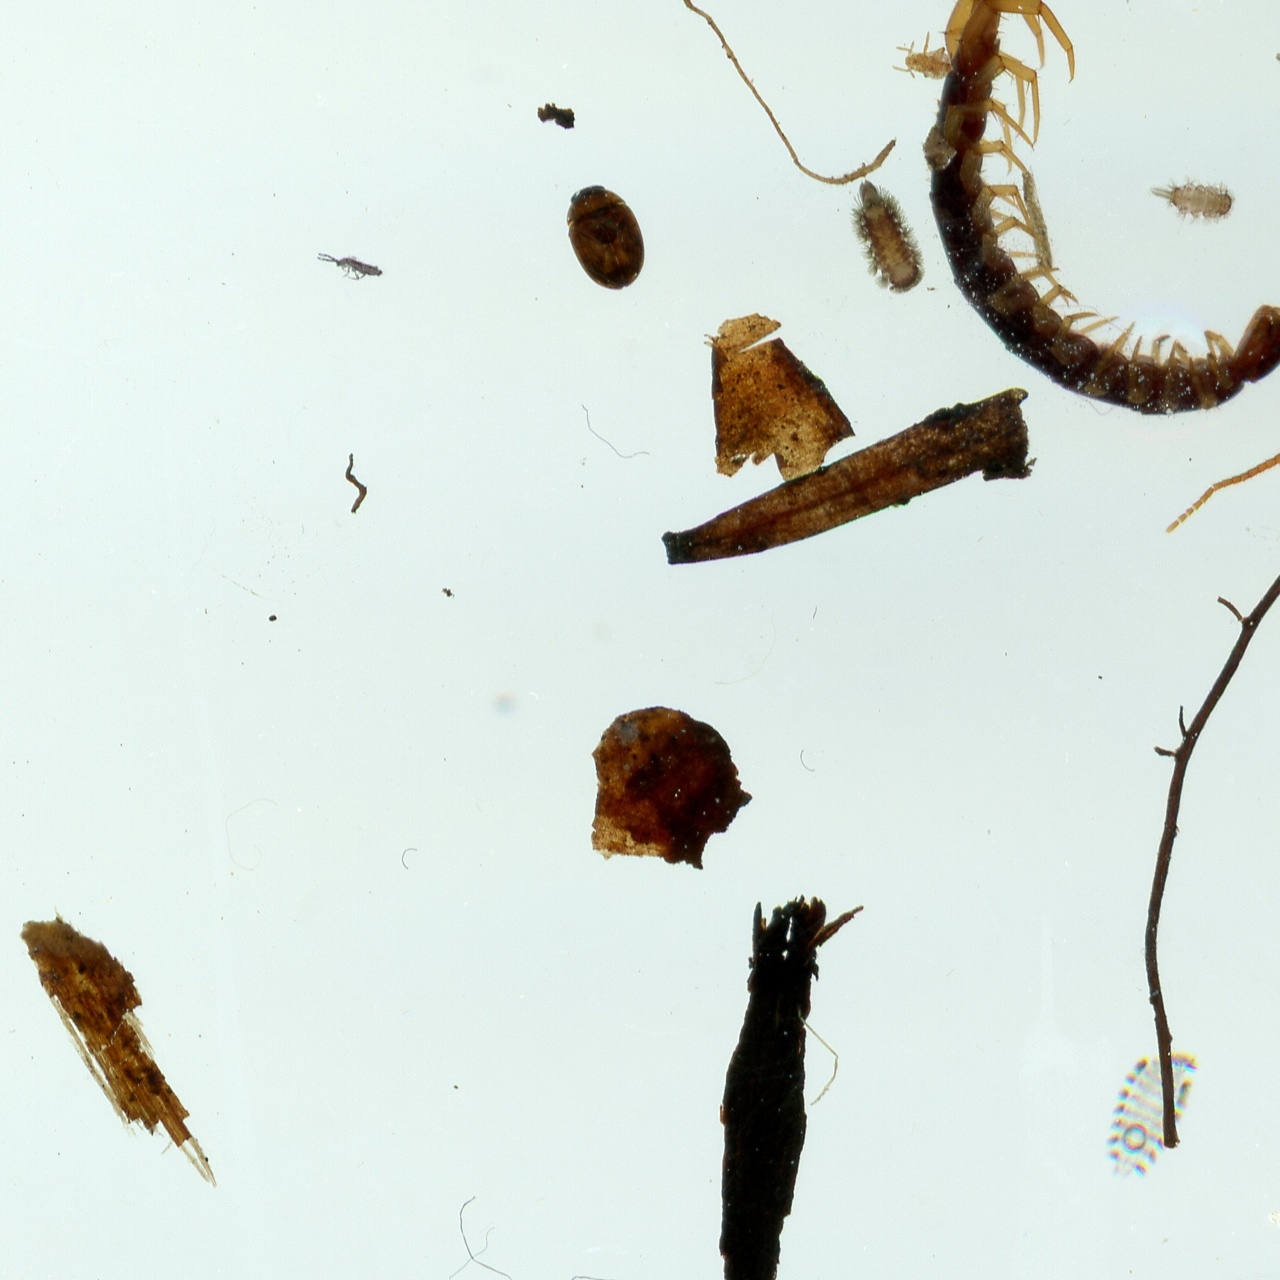arthropod: (942, 227, 1280, 418), (563, 181, 648, 295), (840, 176, 922, 294), (1144, 176, 1242, 227), (1267, 42, 1280, 87)
